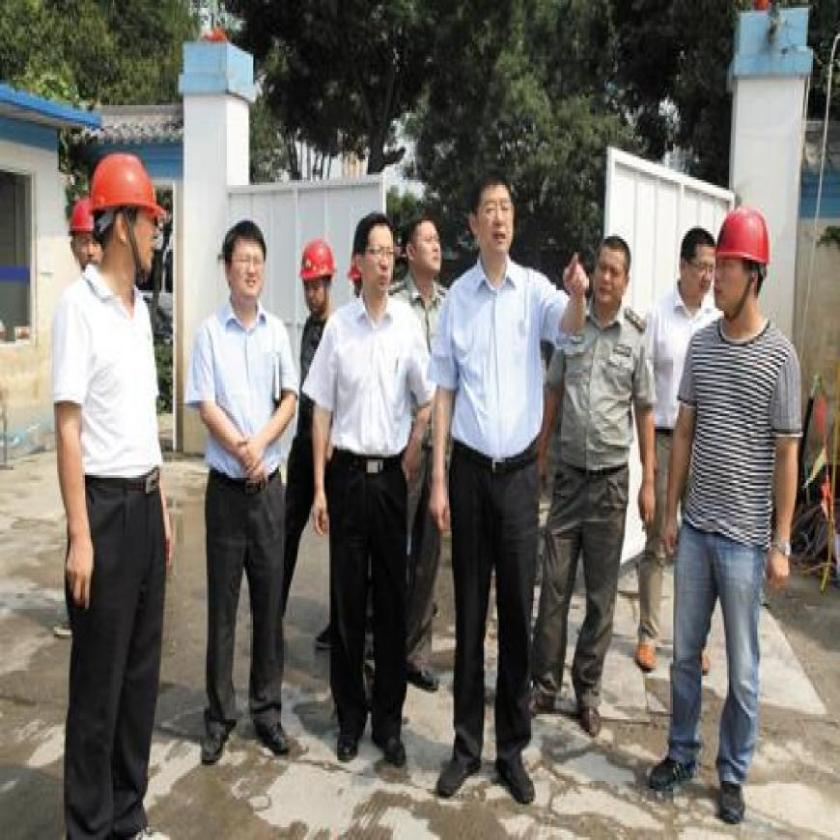Con_casco: (87, 141, 177, 285), (709, 194, 781, 328), (294, 224, 337, 320)
Sin_casco: (217, 217, 273, 313), (352, 211, 398, 321), (470, 172, 520, 267), (401, 211, 446, 294), (593, 236, 638, 318), (673, 229, 716, 307)
